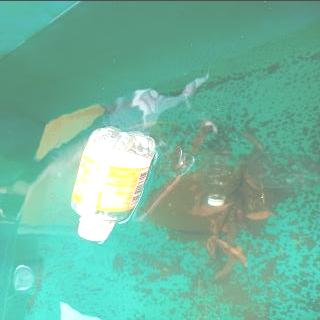bottle: (69, 124, 156, 240)
